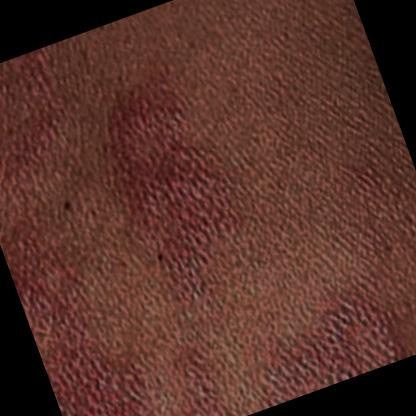Leprosy: (59, 50, 290, 317), (0, 55, 112, 339), (224, 267, 416, 411), (42, 303, 238, 416)
